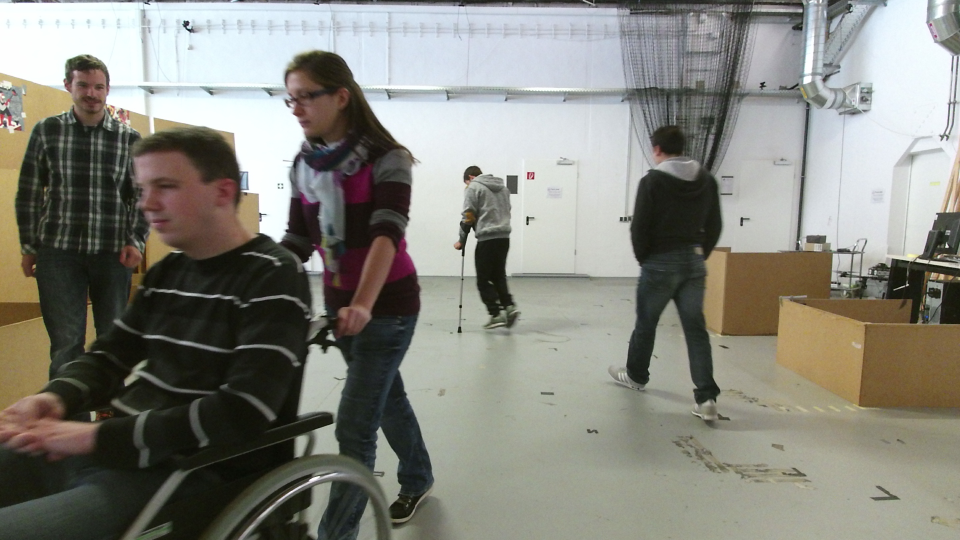crutches: (450, 160, 525, 334)
